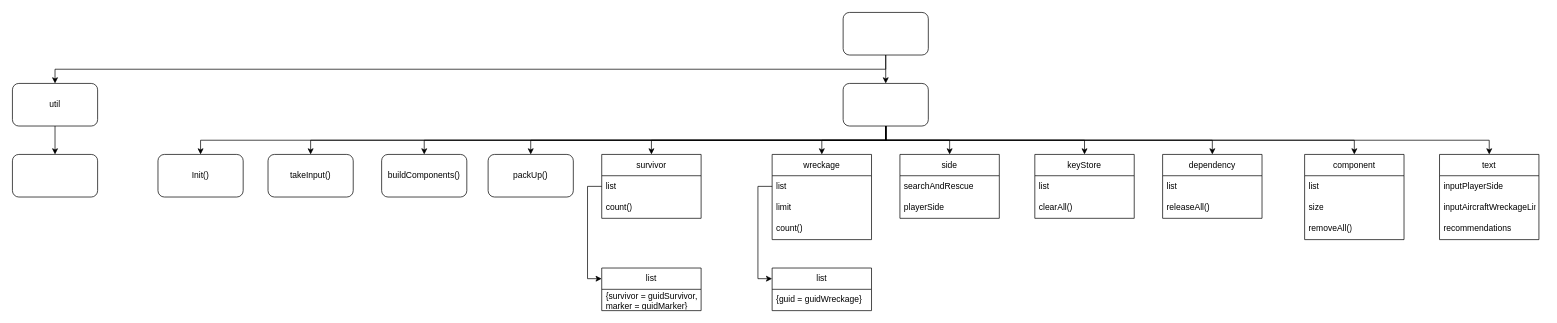
The diagram is 1557 pixels wide and 323 high, and some of its shapes have lost their labels. The centre of each missing label's shape, as x and y in pixels:
betterKeyStore: pixel 55 175
CMOT: pixel 885 33
SAR: pixel 885 104
